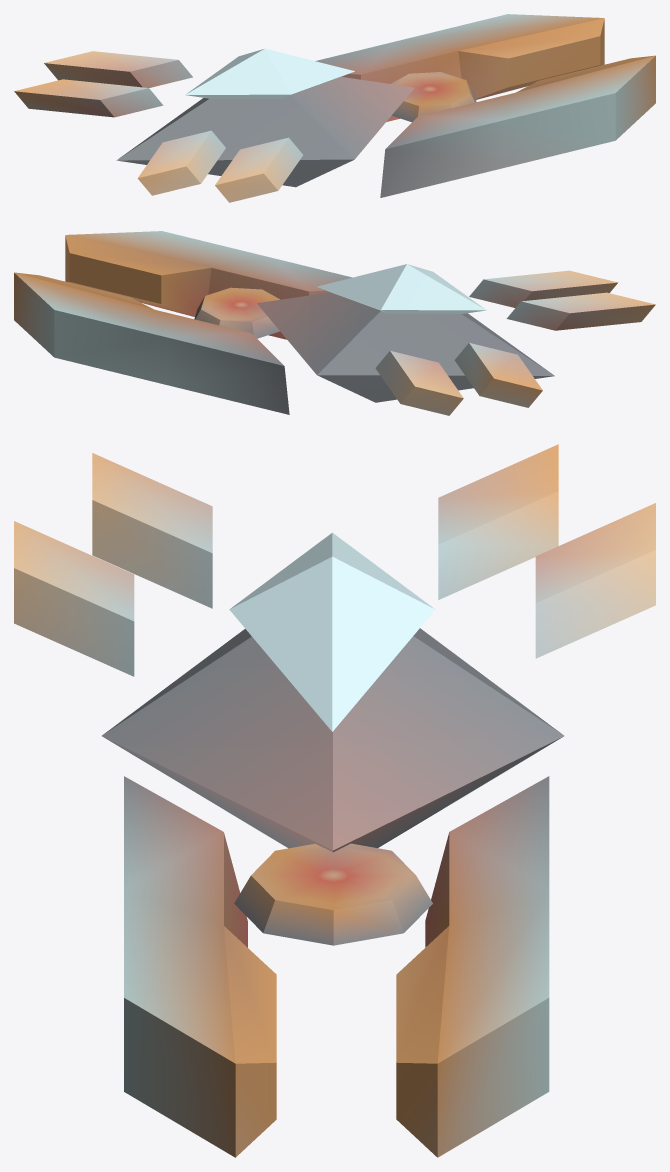
The model's file is InimigoLaser.fbx.
The picture shows the model from 3 angles, top to bottom: view 1: azimuth 30°, elevation 25°; view 2: azimuth 150°, elevation 25°; view 3: azimuth 270°, elevation 25°; orthographic projection. The views are drawn at different scales.
Visible parts, largest first — view 1: Doomsday; view 2: Doomsday; view 3: Doomsday.
Part boxes in pixels (<box>): Doomsday: <box>14,14,655,202</box>; Doomsday: <box>14,231,655,415</box>; Doomsday: <box>14,444,655,1157</box>.
Size of the model in its own units: 835 by 208 by 420.
